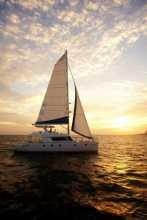fanchuan: (13, 50, 110, 154)
